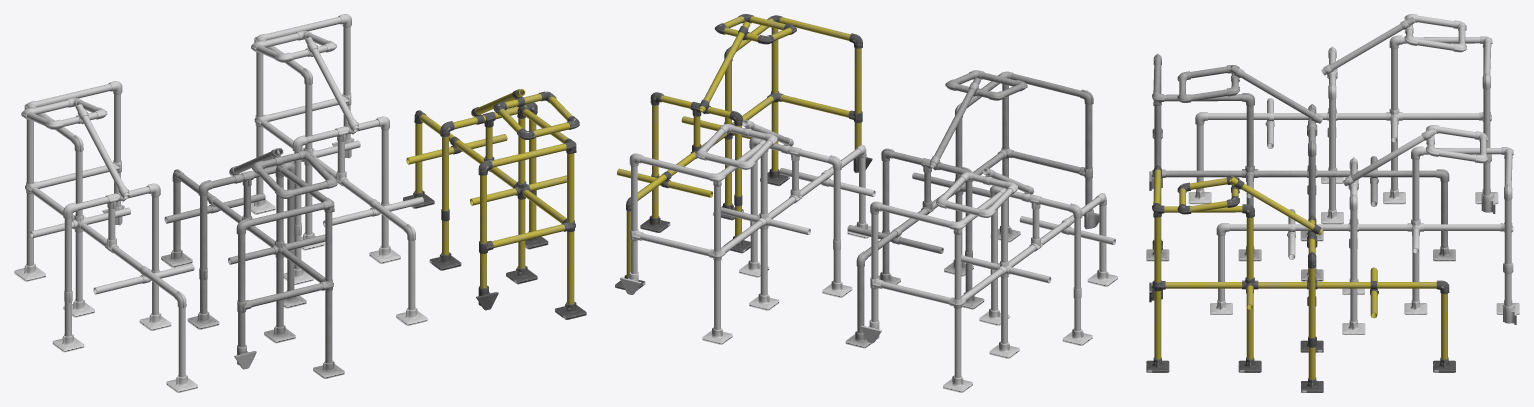
3 renders of one model, left to right at view 1: azimuth 30°, elevation 25°; view 2: azimuth 150°, elevation 25°; view 3: azimuth 270°, elevation 25°, orthographic. The views are drawn at different scales.
Visible parts, largest first — view 1: PipeKitBaseFlange_low.008, PipeKitBaseFlange_low.007, PipeKitBaseFlange_low.010, Cylinder.027, Cylinder.013, Cylinder.037, Cylinder.035, Cylinder.032, Cylinder.019, Cylinder.021, Cylinder.017, Cylinder.020; view 2: PipeKitBaseFlange_low.008, PipeKitBaseFlange_low.007, PipeKitBaseFlange_low.010, Cylinder.013, Cylinder.038, Cylinder.033, Cylinder.019, Cylinder.037, Cylinder.023, Cylinder.020, Cylinder.024, Cylinder.015 (+2 smaller); view 3: PipeKitBaseFlange_low.010, PipeKitBaseFlange_low.008, PipeKitBaseFlange_low.007, Cylinder.013, Cylinder.027, Cylinder.035, Cylinder.016, Cylinder.021, Cylinder.024, Cylinder.032, Cylinder.018, Cylinder.023.
Part boxes in pixels (x1,y1,x2,y2): PipeKitBaseFlange_low.008: [14, 81, 197, 392]; PipeKitBaseFlange_low.007: [161, 148, 344, 378]; PipeKitBaseFlange_low.010: [403, 89, 586, 319]; Cylinder.027: [305, 37, 359, 131]; Cylinder.013: [314, 156, 406, 230]; Cylinder.037: [323, 197, 423, 226]; Cylinder.035: [381, 130, 388, 204]; Cylinder.032: [408, 240, 415, 310]; Cylinder.019: [266, 17, 341, 39]; Cylinder.021: [343, 27, 350, 95]; Cylinder.017: [256, 52, 263, 117]; Cylinder.020: [267, 98, 338, 121]; PipeKitBaseFlange_low.008: [860, 168, 1117, 392]; PipeKitBaseFlange_low.007: [845, 70, 1099, 348]; PipeKitBaseFlange_low.010: [615, 14, 872, 289]; Cylinder.013: [768, 149, 861, 218]; Cylinder.038: [721, 207, 810, 234]; Cylinder.033: [833, 170, 840, 241]; Cylinder.019: [639, 156, 710, 179]; Cylinder.037: [779, 168, 875, 196]; Cylinder.023: [760, 229, 767, 295]; Cylinder.020: [640, 233, 709, 256]; Cylinder.024: [760, 152, 767, 214]; Cylinder.015: [714, 260, 720, 329]; PipeKitBaseFlange_low.010: [1146, 165, 1455, 392]; PipeKitBaseFlange_low.008: [1188, 14, 1498, 224]; PipeKitBaseFlange_low.007: [1146, 53, 1455, 281]; Cylinder.013: [1229, 224, 1407, 230]; Cylinder.027: [1343, 128, 1436, 186]; Cylinder.035: [1350, 210, 1357, 280]; Cylinder.016: [1424, 224, 1500, 230]; Cylinder.021: [1504, 200, 1511, 264]; Cylinder.024: [1412, 160, 1419, 221]; Cylinder.032: [1218, 236, 1224, 301]; Cylinder.018: [1423, 148, 1501, 154]; Cylinder.023: [1412, 251, 1419, 301].
Bounding box in the file's own units: 1.73 × 0.6884 × 1.25.
